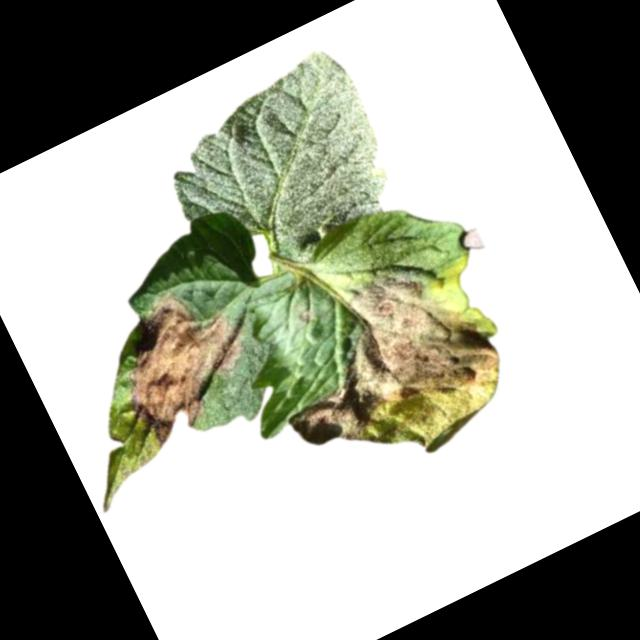Late_blight: (249, 247, 526, 504), (92, 270, 271, 452)
healthy: (142, 39, 411, 292)
